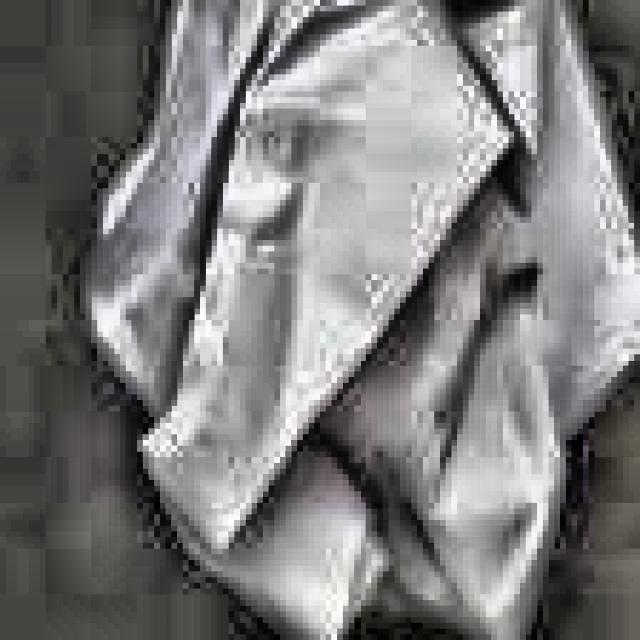paper: (81, 0, 640, 640)
